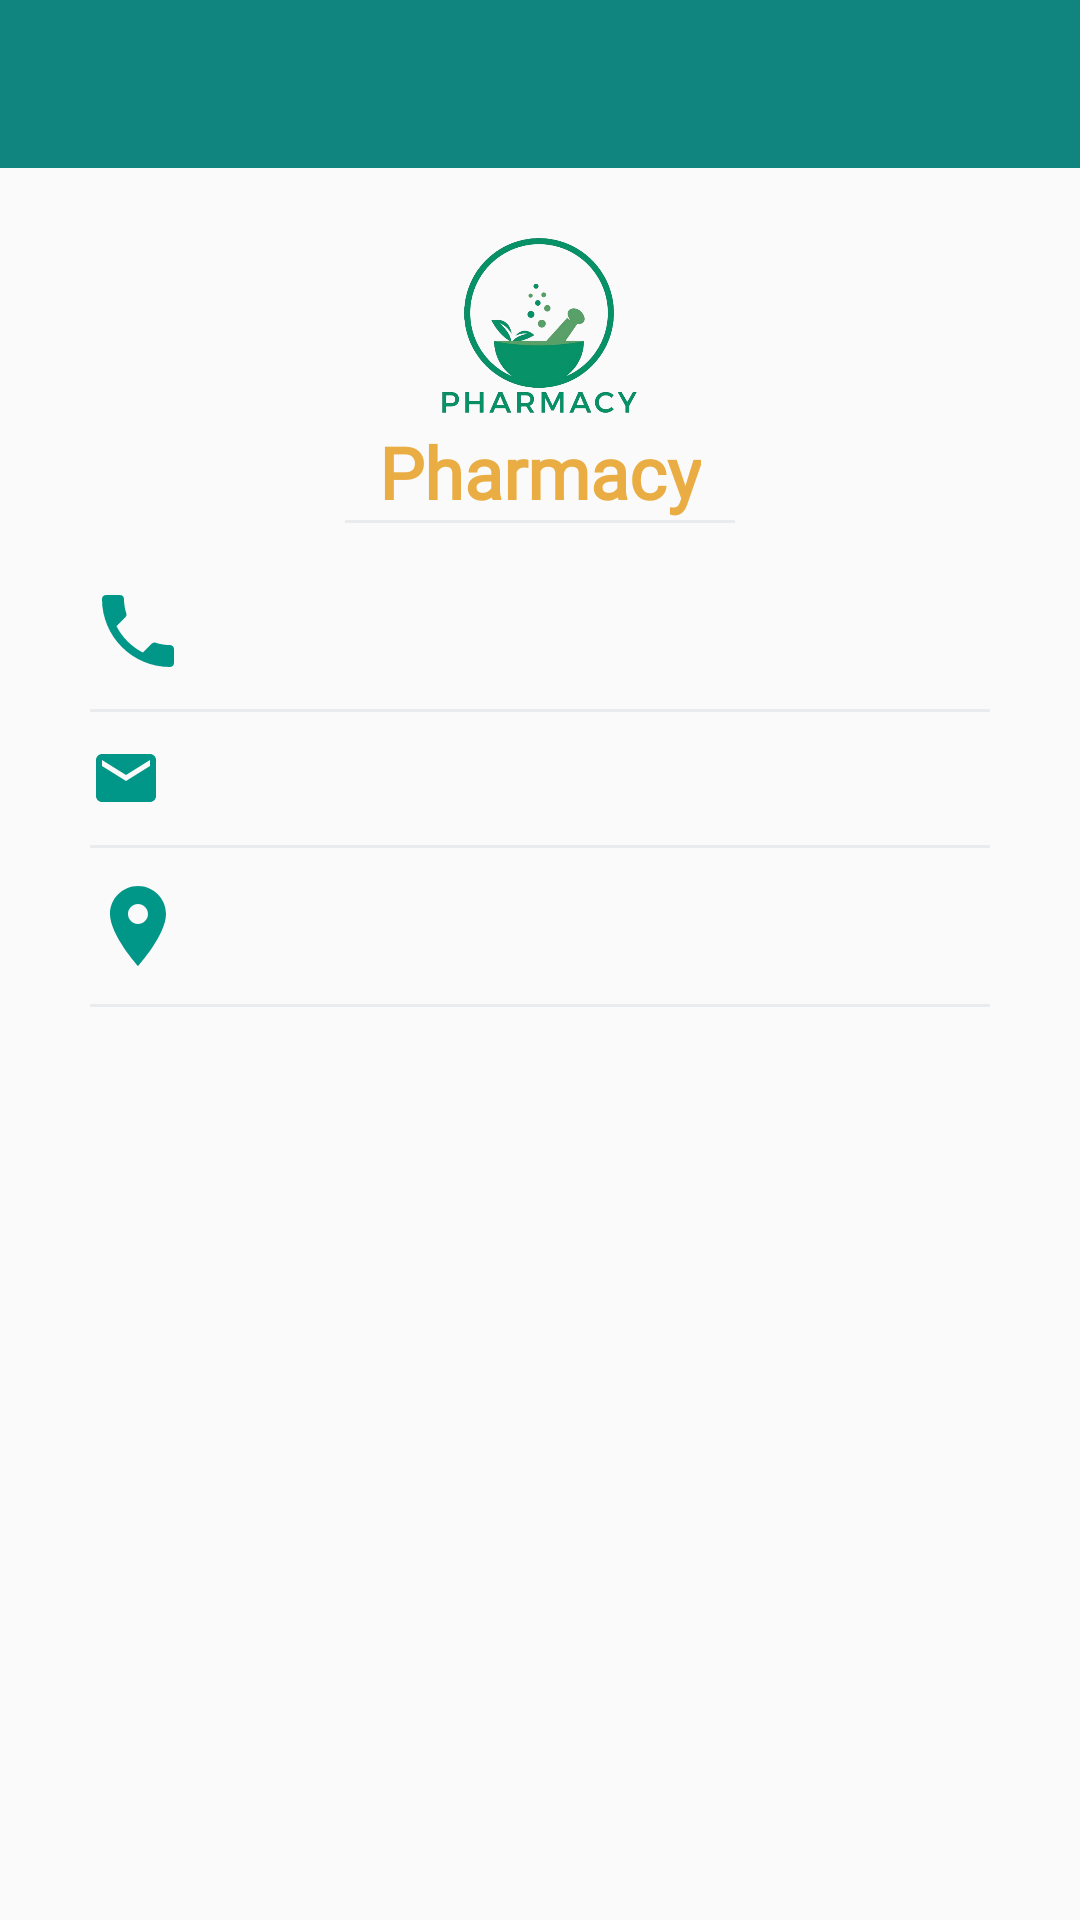

Screen size 1080w x 1920h. Icon name, then its center in pixels as (x,y):
call: (138,631)
email: (126,778)
location on: (138,926)
